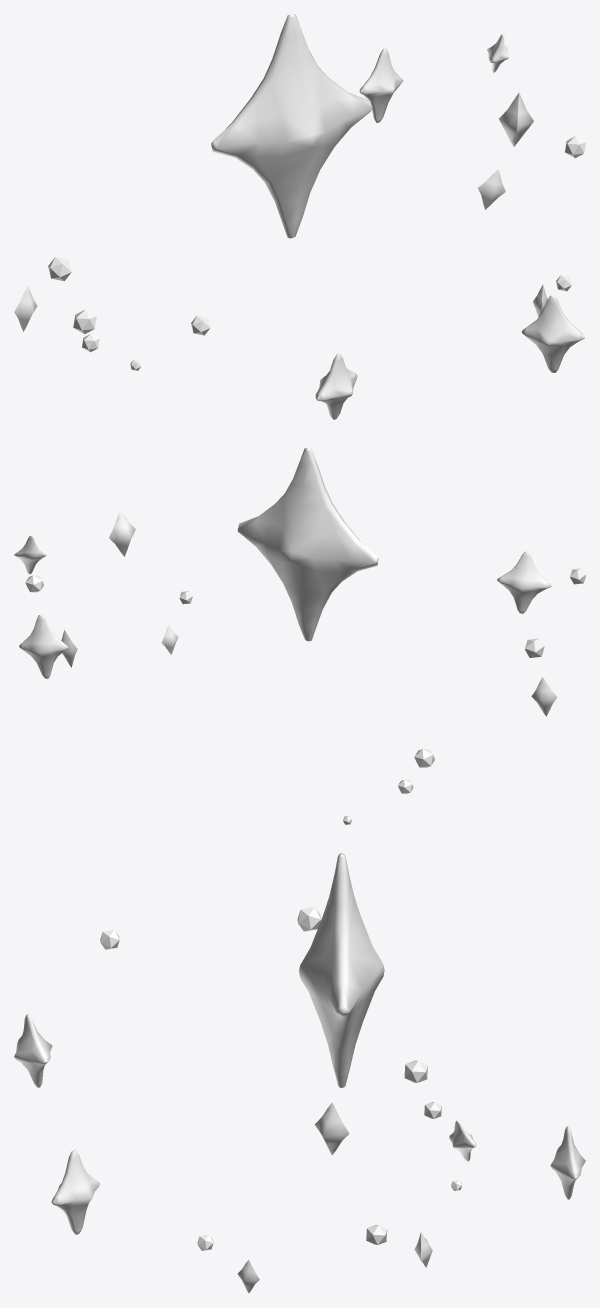
File: Prop_AP27LightMotesDown.glb
The picture shows the model from 3 angles, top to bottom: view 1: azimuth 30°, elevation 25°; view 2: azimuth 150°, elevation 25°; view 3: azimuth 270°, elevation 25°; orthographic projection. The views are drawn at different scales.
Parts seen in each view (by area): view 1: Prop_AP27LightMotesDown; view 2: Prop_AP27LightMotesDown; view 3: Prop_AP27LightMotesDown.
Boxes of the visible parts, x1=… form: Prop_AP27LightMotesDown: x1=14, y1=14, x2=585, y2=419; Prop_AP27LightMotesDown: x1=14, y1=448, x2=585, y2=824; Prop_AP27LightMotesDown: x1=14, y1=853, x2=585, y2=1293.
Size of the model in its own units: 6.23 by 3.73 by 4.99.
1 material, 1 textured.
